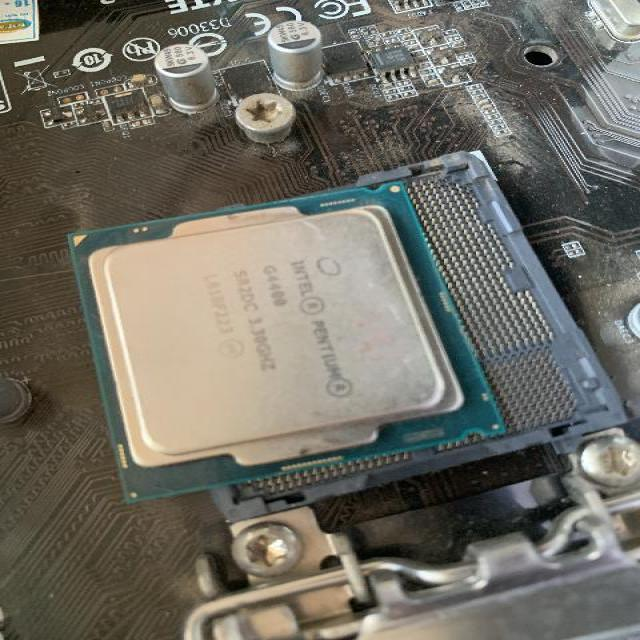CPU: (68, 182, 508, 503)
Mainboard: (0, 0, 640, 638)
